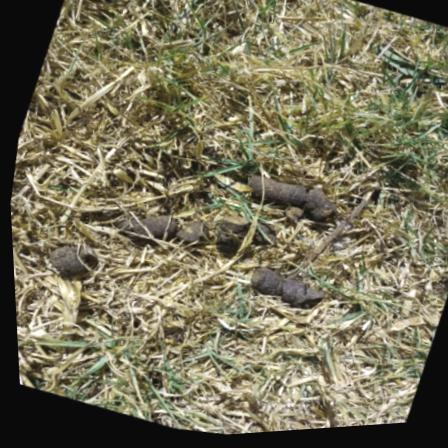dog-poop: (114, 195, 277, 260), (257, 161, 346, 241), (240, 259, 328, 323), (44, 228, 101, 282)
